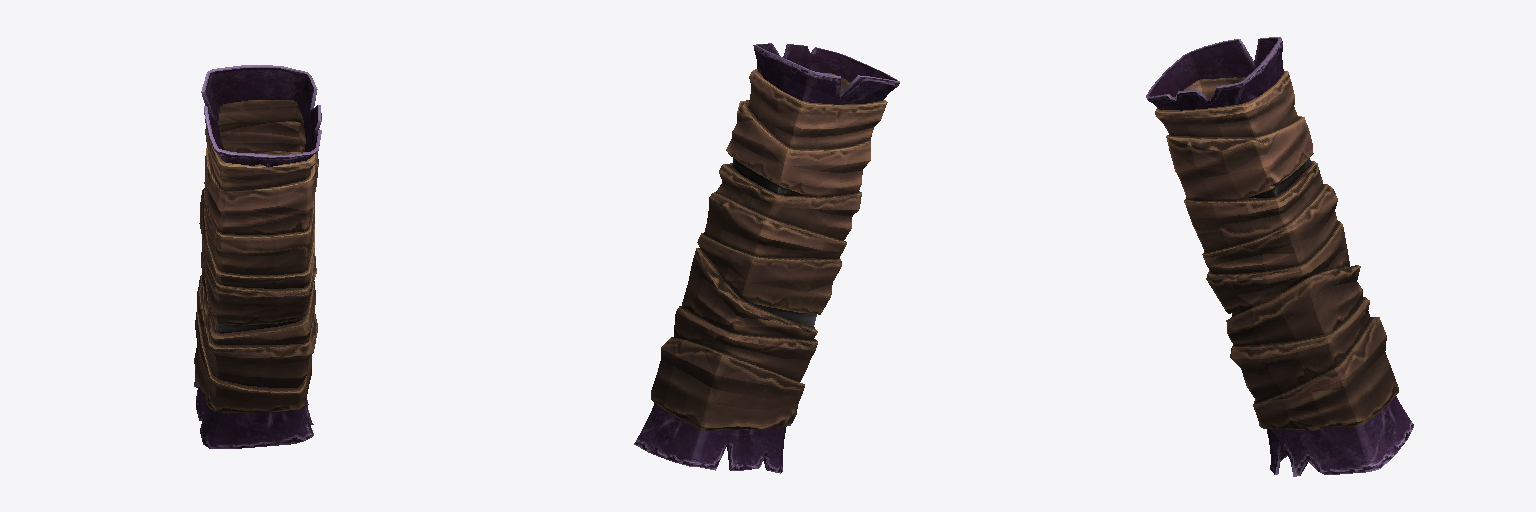
3 views of the same model, side by side, from view 1: azimuth 30°, elevation 25°; view 2: azimuth 150°, elevation 25°; view 3: azimuth 270°, elevation 25° (orthographic).
Visible parts, largest first — view 1: Anchor_Cloth; view 2: Anchor_Cloth; view 3: Anchor_Cloth.
Boxes of the visible parts, x1,y1,x2,y2 form: Anchor_Cloth: [194, 65, 321, 448]; Anchor_Cloth: [634, 43, 899, 473]; Anchor_Cloth: [1146, 37, 1413, 476].
Bounding box in the file's own units: 0.6775 × 1.47 × 0.9118.
Materials: 1 (1 with a texture image).